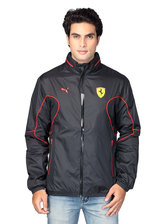clothoes: (23, 52, 146, 199)
